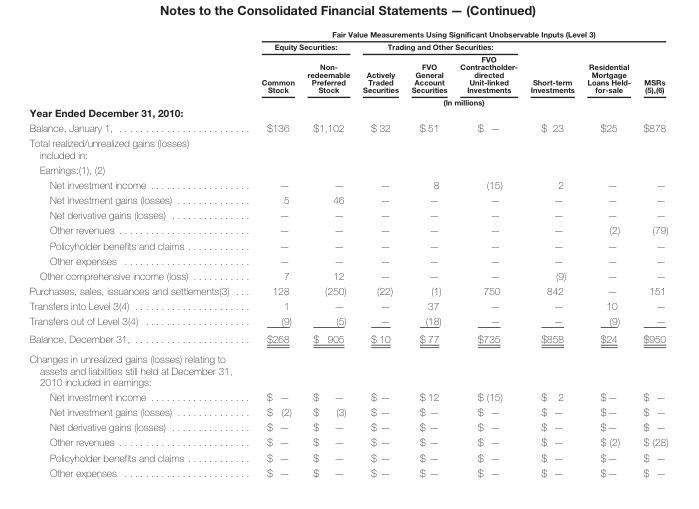table: (28, 29, 667, 478)
table column: (28, 29, 244, 478), (452, 29, 523, 478), (523, 29, 580, 478), (244, 29, 300, 478), (580, 29, 636, 478), (300, 29, 355, 478), (355, 29, 404, 478), (404, 29, 452, 478), (636, 29, 667, 478)
table column header: (28, 29, 667, 106)
table projected row header: (28, 348, 667, 389), (28, 135, 667, 161), (28, 161, 667, 176), (28, 106, 667, 120)
table row: (28, 52, 667, 95), (28, 348, 667, 389), (28, 135, 667, 161), (28, 329, 667, 348), (28, 176, 667, 192), (28, 267, 667, 283), (28, 313, 667, 329), (28, 120, 667, 135), (28, 161, 667, 176), (28, 192, 667, 207), (28, 207, 667, 222), (28, 222, 667, 237), (28, 237, 667, 252), (28, 252, 667, 267), (28, 283, 667, 298), (28, 298, 667, 313), (28, 389, 667, 404), (28, 404, 667, 419), (28, 419, 667, 434), (28, 434, 667, 449), (28, 449, 667, 464), (28, 106, 667, 120), (28, 464, 667, 478), (28, 40, 667, 52), (28, 29, 667, 40), (28, 95, 667, 106)
table spanning cell: (244, 29, 667, 40), (244, 95, 667, 106), (523, 40, 580, 95), (580, 40, 636, 95), (355, 40, 523, 52), (636, 40, 667, 95), (244, 40, 355, 52)
